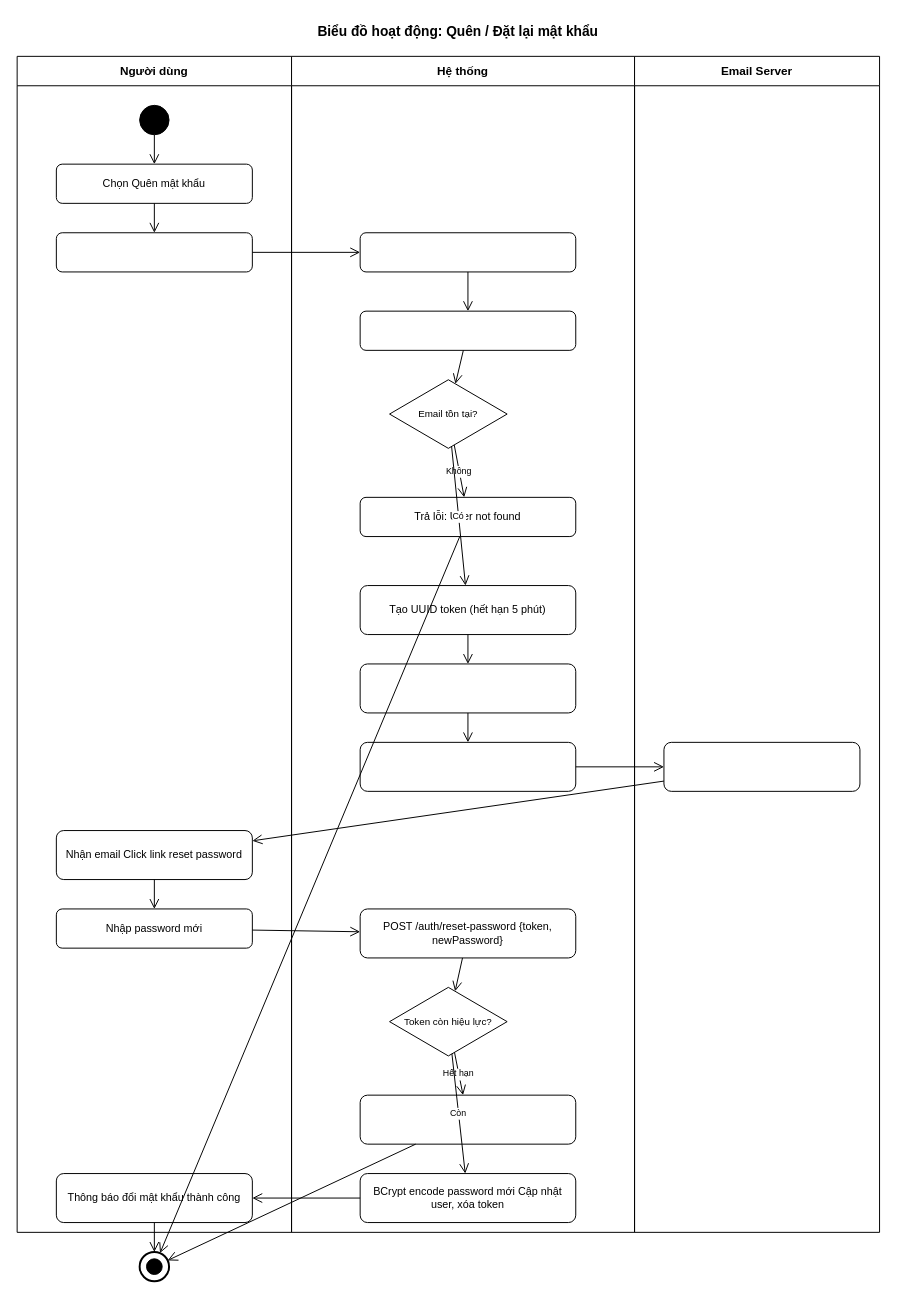
Some shapes in this 916 by 1299 pixel diagram are drawn without their labels. Here are the shapes that lost their labels. From the top down, the centre of each, then its label:
At (x=153, y=252): "Nhập email".
At (x=467, y=252): "POST /auth/forgot-password".
At (x=467, y=330): "Tìm User theo email trong Database".
At (x=467, y=688): "Lưu token vào bảng password_reset_tokens".
At (x=467, y=766): "Gọi Gmail SMTP gửi email chứa link reset".
At (x=761, y=766): "Gửi email đến người dùng".
At (x=467, y=1119): "Trả lỗi: Token expired Xóa token".
